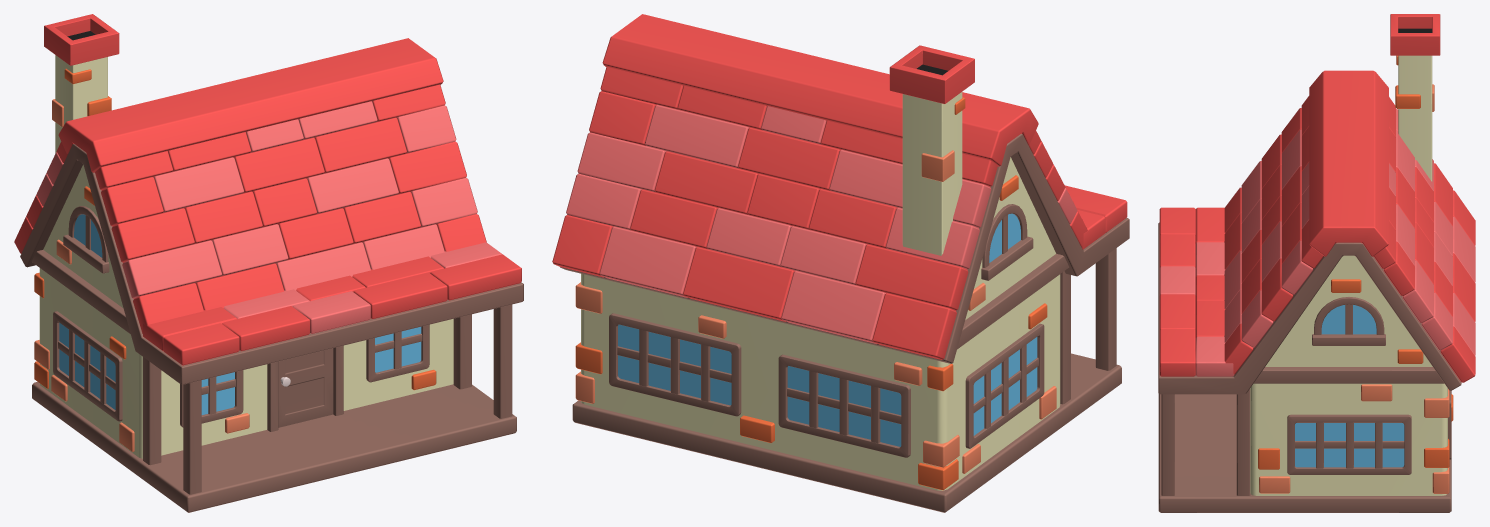
The model's file is Town_19_House_1.glb.
3 renders of one model, left to right at view 1: azimuth 30°, elevation 25°; view 2: azimuth 150°, elevation 25°; view 3: azimuth 270°, elevation 25°, orthographic. The views are drawn at different scales.
Visible parts, largest first — view 1: Town_19_House_1; view 2: Town_19_House_1; view 3: Town_19_House_1.
Part boxes in pixels (bbox=[...]): Town_19_House_1: bbox=[14, 14, 523, 512]; Town_19_House_1: bbox=[552, 14, 1129, 512]; Town_19_House_1: bbox=[1158, 14, 1475, 512].
Size of the model in its own units: 8.69 by 9.1 by 7.41.
Materials: 1 (1 with a texture image).
